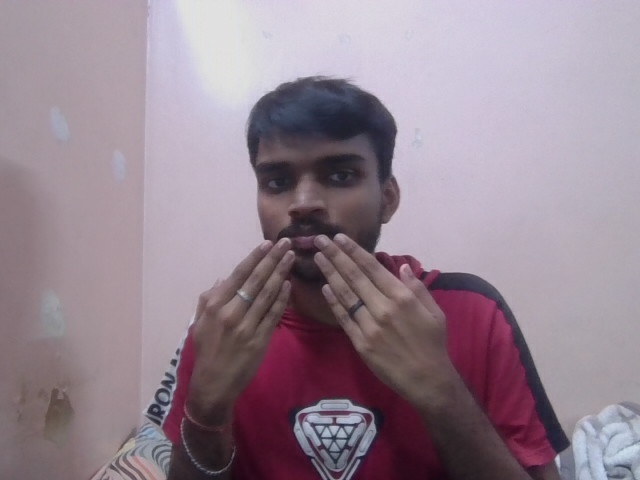Thank You: (188, 231, 455, 389)
